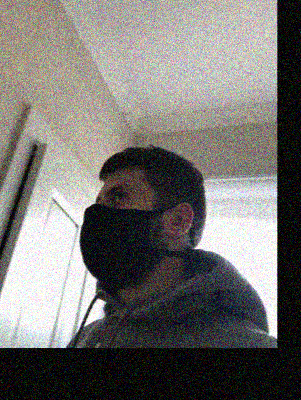with_mask: (79, 179, 157, 286)
